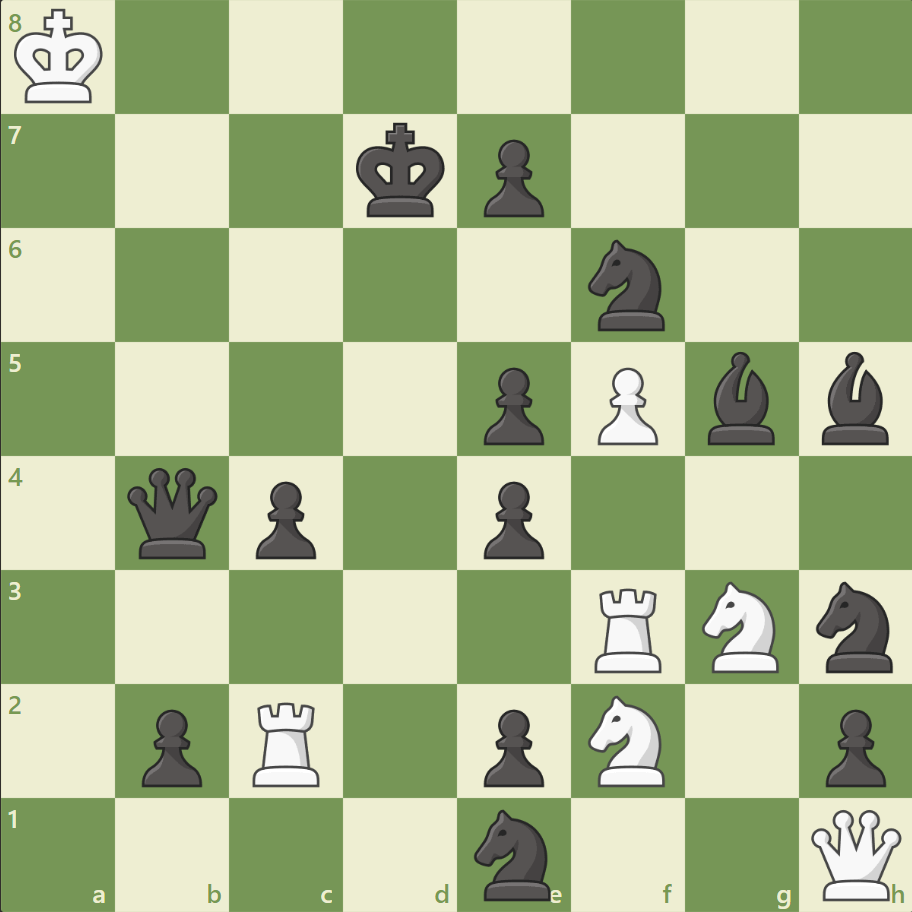K: (11, 4, 111, 112)
N: (579, 688, 676, 791), (692, 575, 789, 677)
P: (588, 359, 662, 450)
Q: (805, 804, 904, 903)
R: (587, 579, 670, 676), (246, 693, 329, 790)
b: (698, 347, 782, 449), (812, 347, 896, 449)
k: (351, 117, 451, 225)
n: (579, 234, 676, 337), (806, 575, 903, 677), (465, 802, 562, 904)
p: (474, 132, 549, 223), (474, 359, 549, 450), (247, 473, 322, 564), (474, 473, 549, 564), (133, 700, 208, 791), (474, 700, 549, 791), (815, 700, 889, 791)
q: (124, 463, 223, 562)
